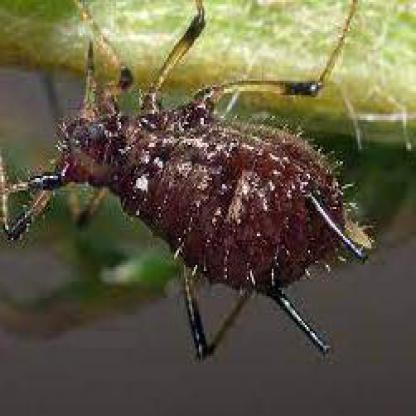uroleucon compositae: (0, 14, 375, 360)
